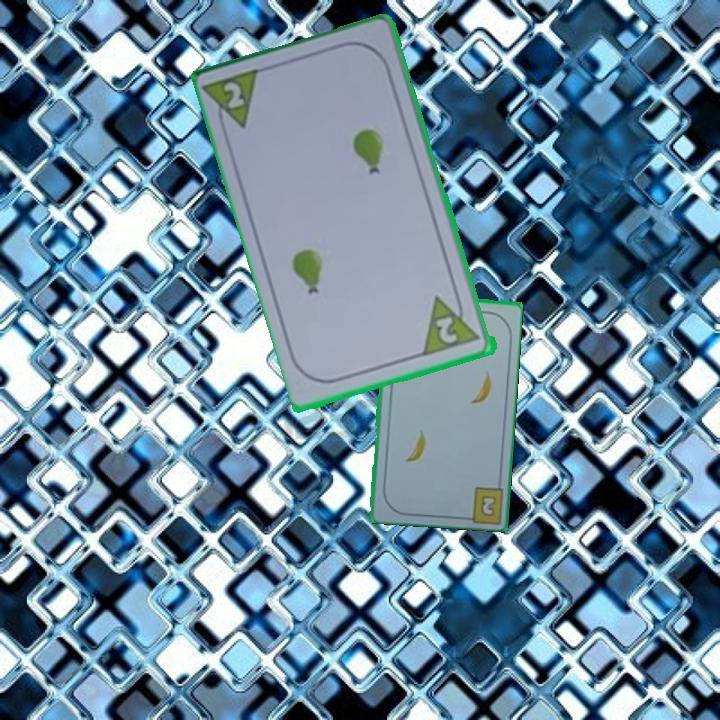2b: (459, 482, 505, 523)
2p: (202, 65, 266, 139), (420, 288, 484, 359)
